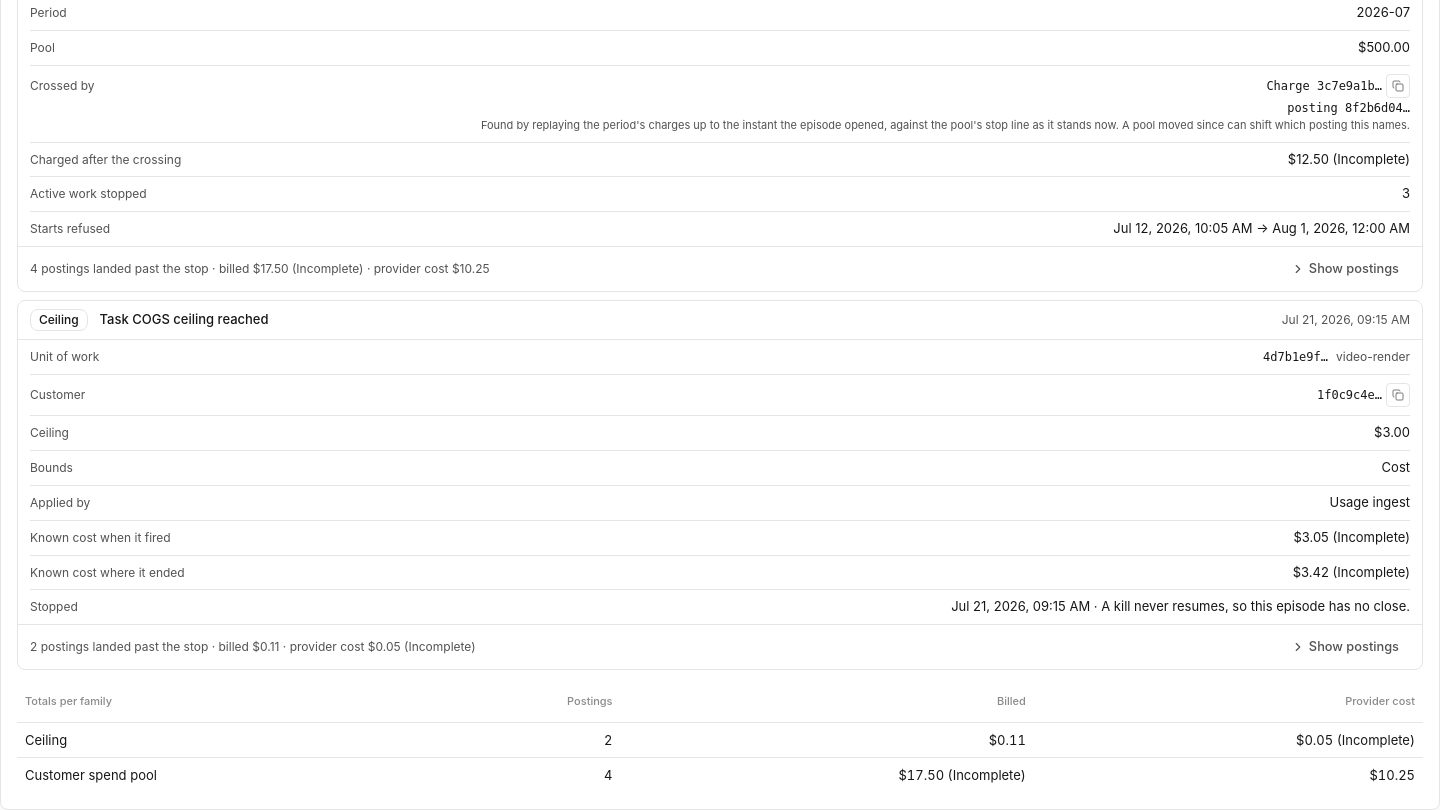
Test case: StopsAndBreaches — the three shapes › renders a ceiling row explained by its unit and the events after the stop
The image size is (1440, 810).
(page scrolled)
Expected: the text "$3.00" is shown, [1374, 424, 1410, 442]
Expected: the text "Cost" is shown, [1382, 459, 1410, 477]
Click the button "Show postings" in the row of "2 postings": {"x": 1345, "y": 647} [1280, 633, 1410, 661]
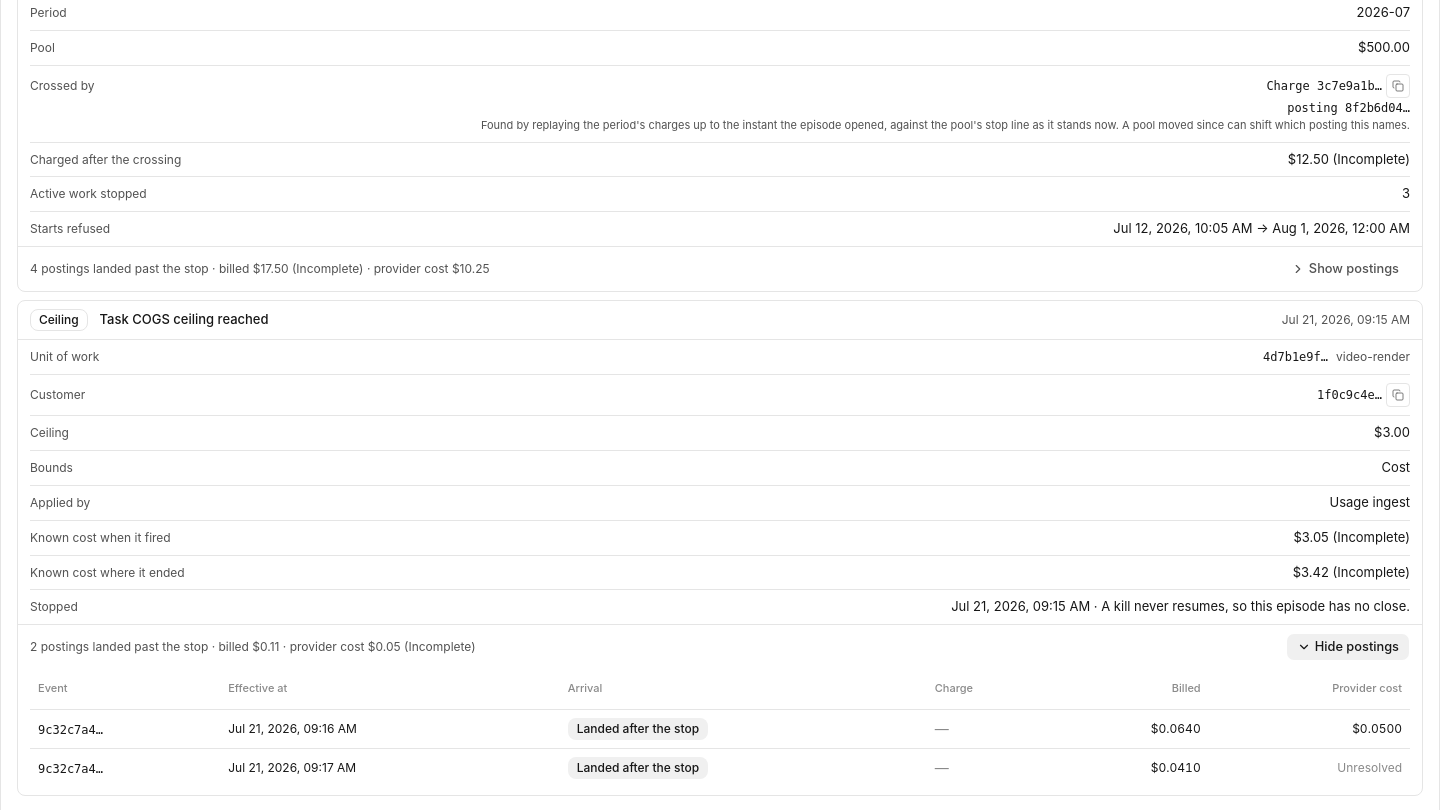
Expected: the text "Unresolved" is shown, [1337, 760, 1402, 775]
